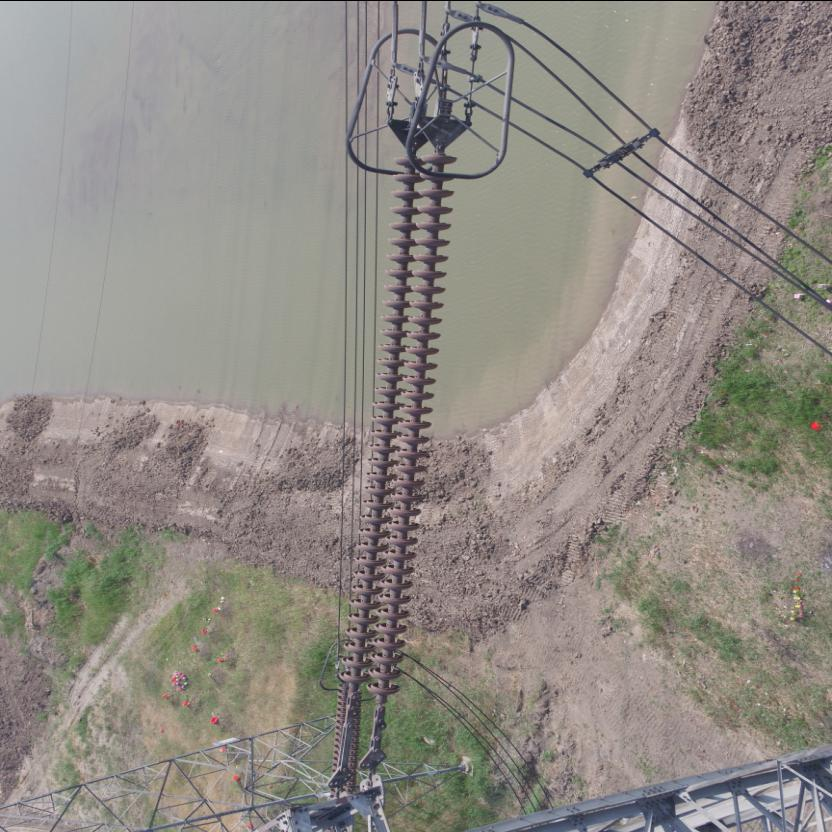insulator: (333, 130, 461, 725)
